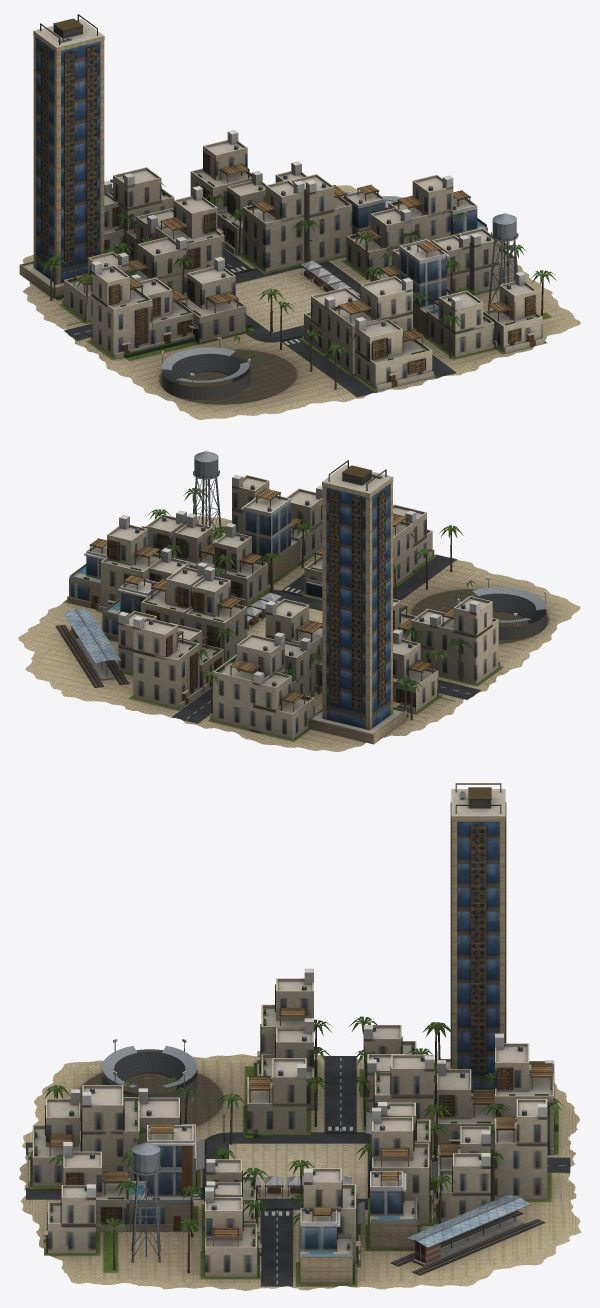
File: modern-town-big-a-levant.glb
The picture shows the model from 3 angles, top to bottom: view 1: azimuth 30°, elevation 25°; view 2: azimuth 150°, elevation 25°; view 3: azimuth 270°, elevation 25°; orthographic projection. The views are drawn at different scales.
Parts seen in each view (by area): view 1: LOD0; view 2: LOD0; view 3: LOD0.
Part boxes in pixels (box(x1,y1,x2,y2)): LOD0: box(19, 14, 580, 419); LOD0: box(18, 451, 580, 751); LOD0: box(19, 783, 581, 1290).
Size of what is drawn, in the model's own units: 8.04 by 4.65 by 8.09.
3 materials, 3 textured.
